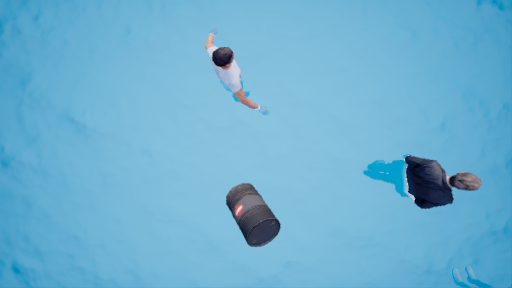person: (350, 152, 491, 212), (205, 31, 279, 132)
